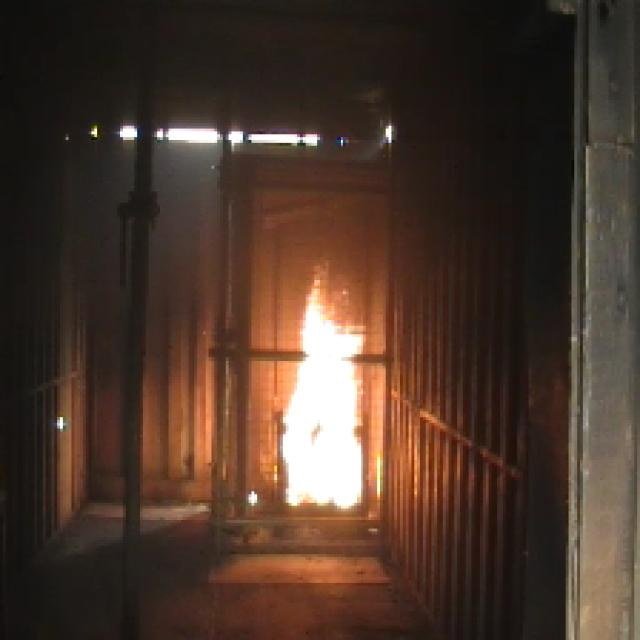fire: (290, 289, 368, 516)
